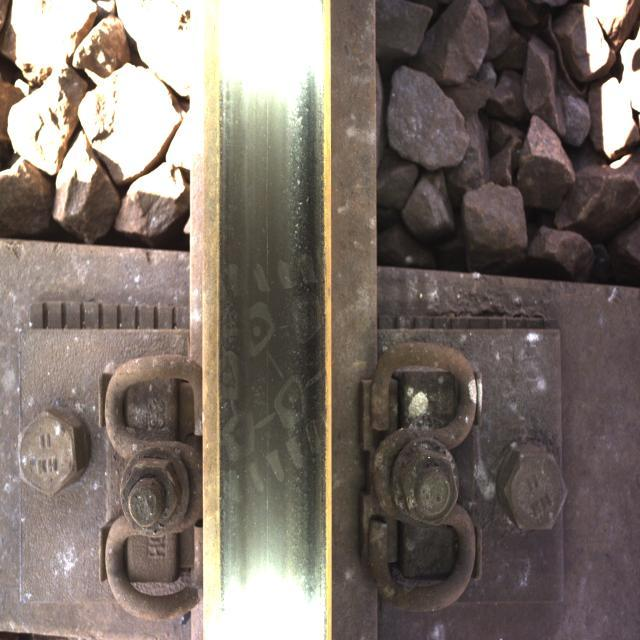normal: (226, 55, 325, 637)
